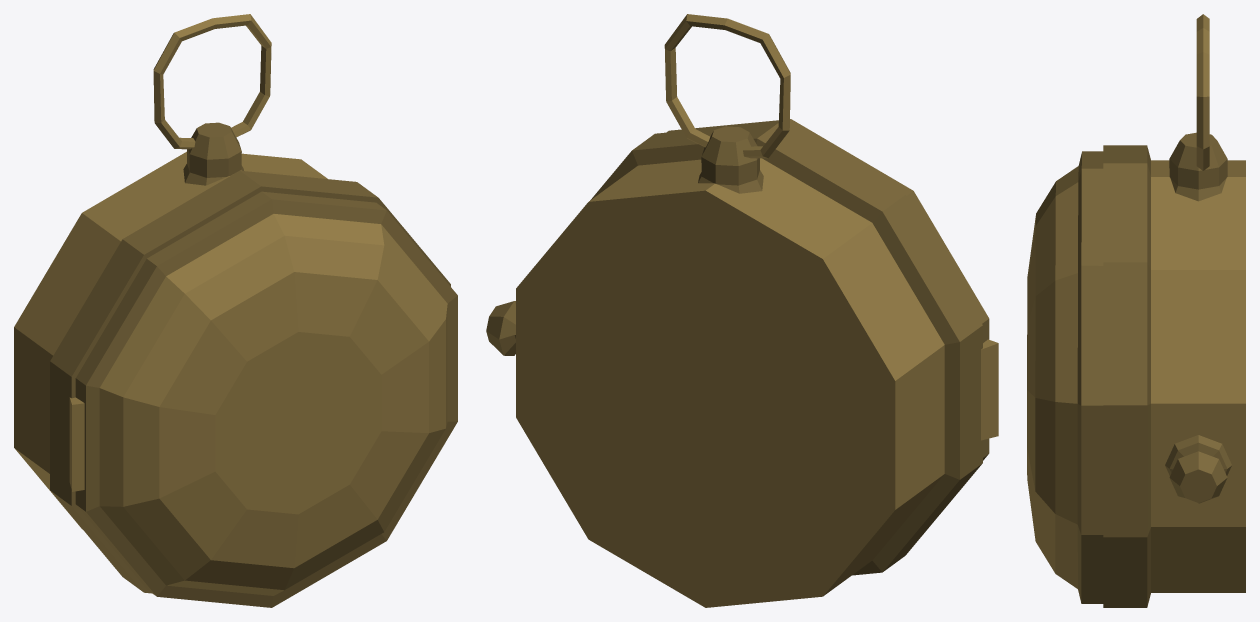
File: compass_closed.glb
3 renders of one model, left to right at view 1: azimuth 30°, elevation 25°; view 2: azimuth 150°, elevation 25°; view 3: azimuth 270°, elevation 25°, orthographic. The views are drawn at different scales.
Visible parts, largest first — view 1: Compass_Closed; view 2: Compass_Closed; view 3: Compass_Closed.
Part boxes in pixels (box(x1,y1,x2,y2)): Compass_Closed: box(14, 14, 457, 607); Compass_Closed: box(486, 14, 998, 607); Compass_Closed: box(1027, 14, 1245, 607).
Bounding box in the file's own units: 0.6382 × 0.8054 × 0.284.
